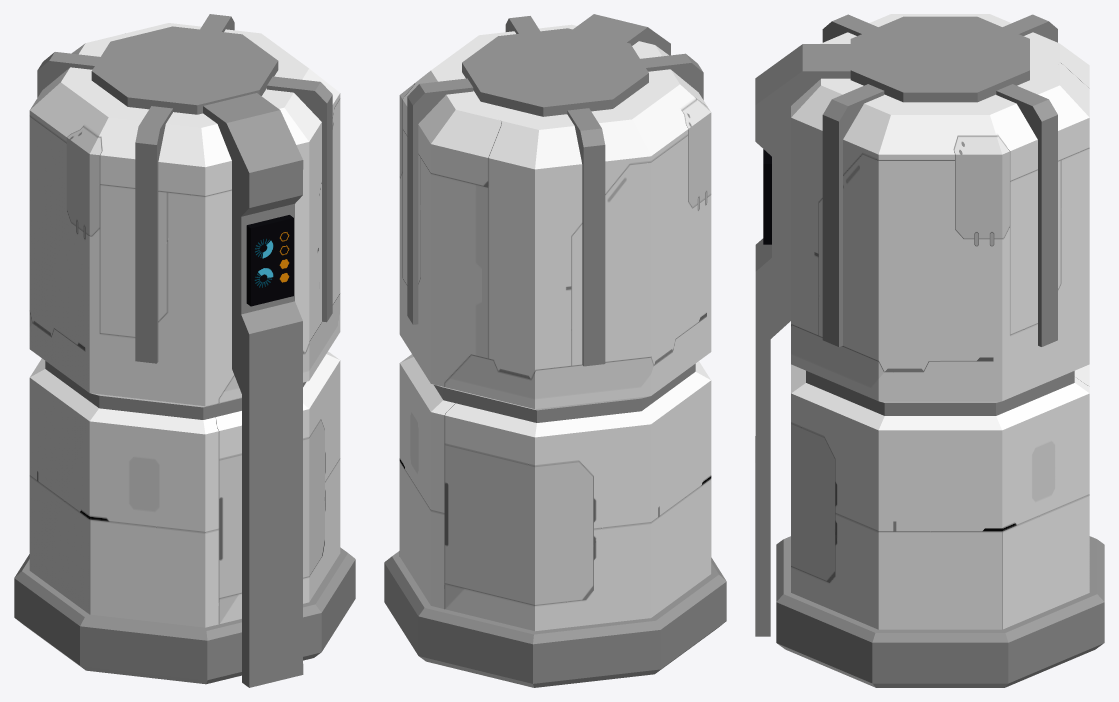
Rendered from SM_Container_Medium_Cylinder_1.fbx.
3 renders of one model, left to right at view 1: azimuth 30°, elevation 25°; view 2: azimuth 150°, elevation 25°; view 3: azimuth 270°, elevation 25°, orthographic. The views are drawn at different scales.
Visible parts, largest first — view 1: SM_Container_Medium_Cylinder_1; view 2: SM_Container_Medium_Cylinder_1; view 3: SM_Container_Medium_Cylinder_1.
Part boxes in pixels (x1,y1,x2,y2): SM_Container_Medium_Cylinder_1: (14,14,355,687); SM_Container_Medium_Cylinder_1: (384,14,726,687); SM_Container_Medium_Cylinder_1: (755,14,1104,687).
Bounding box in the file's own units: 51.21 × 97.68 × 54.46.
